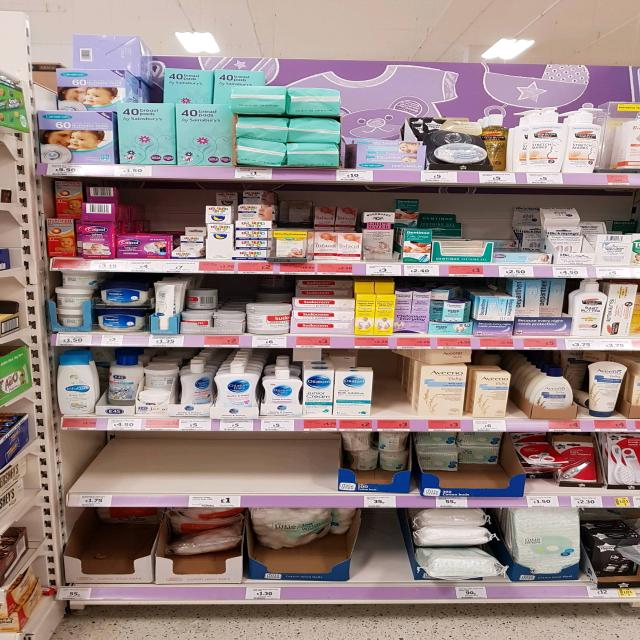empty: (65, 434, 338, 494), (366, 351, 414, 425)
